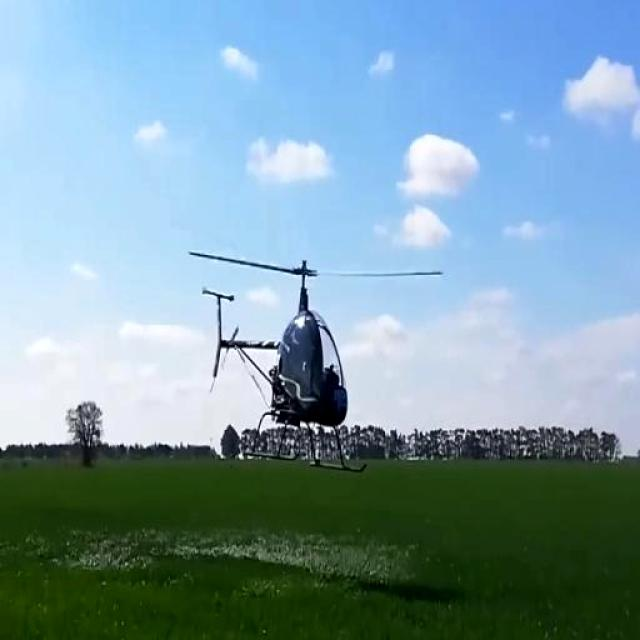drone: (192, 238, 450, 465)
